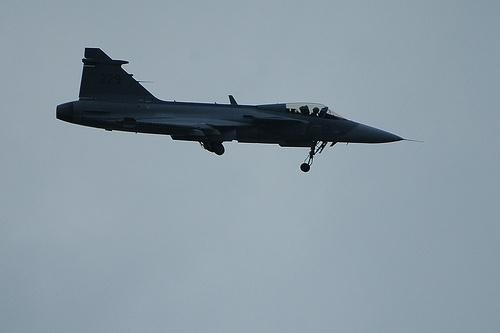aeroplane: (53, 46, 432, 175)
